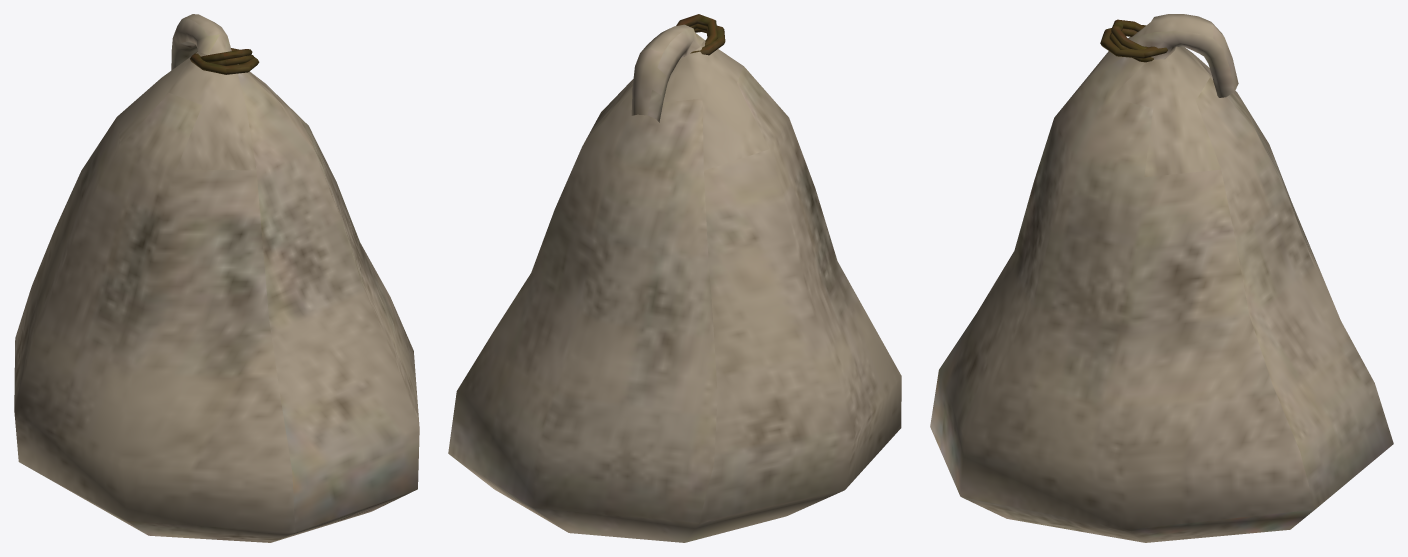
The model's file is SM_merchandise_bag_01.glb.
3 renders of one model, left to right at view 1: azimuth 30°, elevation 25°; view 2: azimuth 150°, elevation 25°; view 3: azimuth 270°, elevation 25°, orthographic. The views are drawn at different scales.
Visible parts, largest first — view 1: SM_merchandise_bag_01; view 2: SM_merchandise_bag_01; view 3: SM_merchandise_bag_01.
Boxes of the visible parts, x1=… form: SM_merchandise_bag_01: x1=14, y1=14, x2=419, y2=542; SM_merchandise_bag_01: x1=448, y1=14, x2=901, y2=542; SM_merchandise_bag_01: x1=930, y1=14, x2=1393, y2=542.
Size of the model in its own units: 0.4612 by 0.5559 by 0.4929.
1 material, 1 textured.
